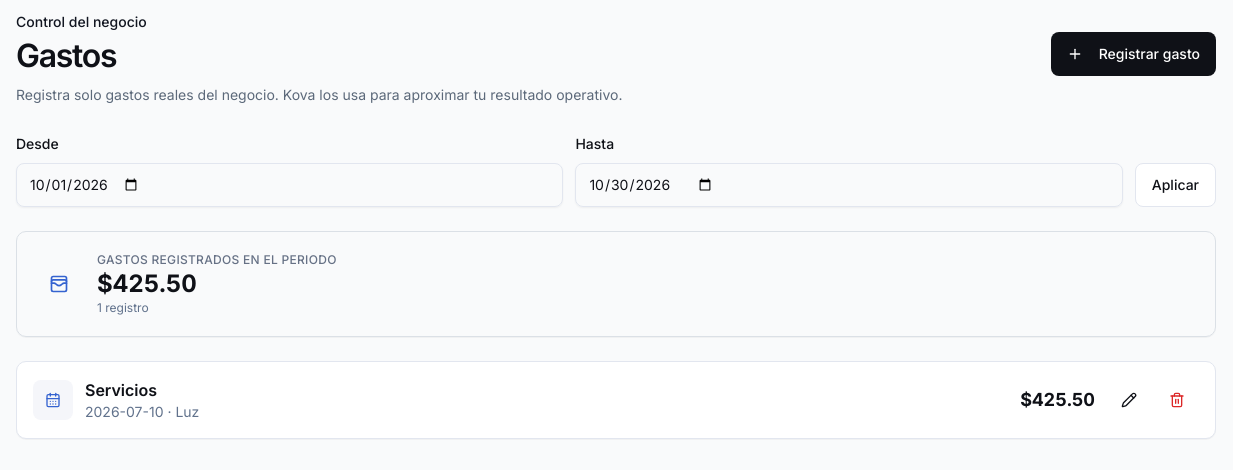
Scenario: ExpensesView › does not retain the previous period total after the next period fails
This screenshot has width=1233, height=470.
Expected: the text "$425.50" is shown 2 times, [97,269,197,298]; [1020,386,1095,414]
Type "2026-07-20" into the date field labelled "Hasta" at (849, 185), box [575,163,1123,207]
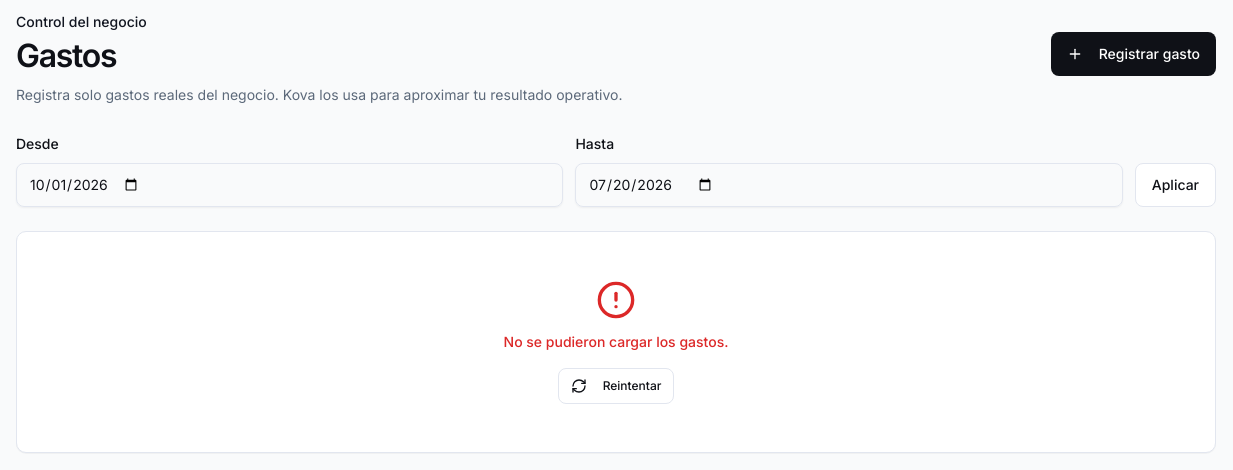
Expected: the text "No se pudieron cargar los gastos." is shown, [504,332,728,352]
Expected: the text "Gastos registrados en el periodo" is gone
Expected: the text "$425.50" is gone
